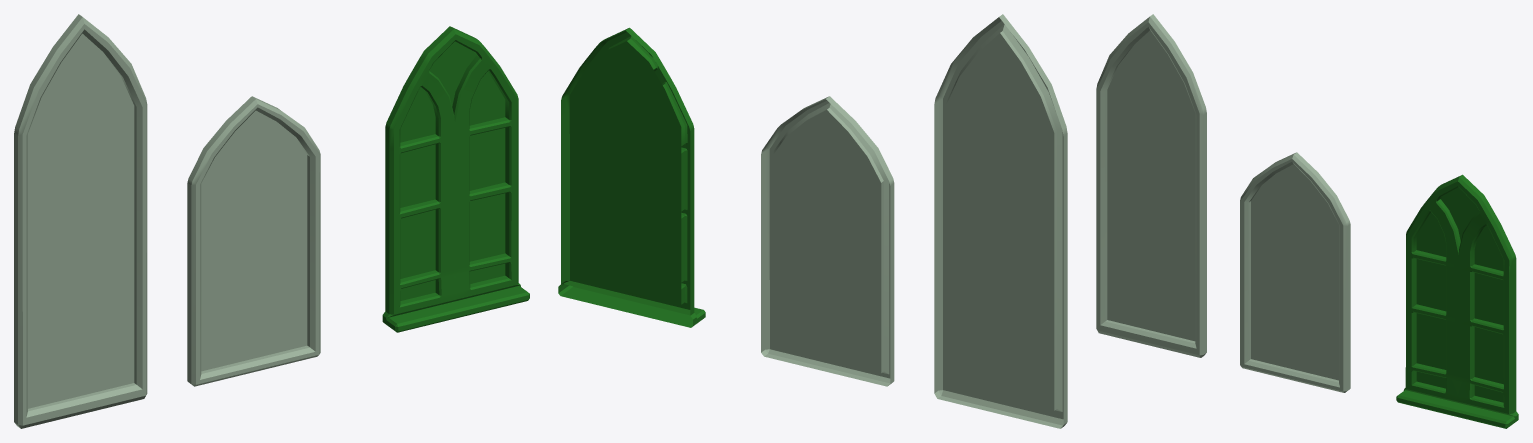
Rendered from WindowChurch.fbx.
The picture shows the model from 3 angles, left to right: view 1: azimuth 30°, elevation 25°; view 2: azimuth 150°, elevation 25°; view 3: azimuth 330°, elevation 25°; orthographic projection. The views are drawn at different scales.
Parts seen in each view (by area): view 1: Curch_window4, Curch_windowSmallStainedGlass, Curch_window1, pPlane1; view 2: Curch_window4, Curch_windowSmallStainedGlass, pPlane1, Curch_window1; view 3: Curch_window4, Curch_windowSmallStainedGlass, Curch_window1, pPlane1.
Boxes of the visible parts, box(x1,y1,x2,y2) form: Curch_window4: box(14, 14, 147, 428); Curch_windowSmallStainedGlass: box(187, 96, 320, 386); Curch_window1: box(382, 26, 529, 332); pPlane1: box(400, 41, 505, 300); Curch_window4: box(934, 14, 1067, 428); Curch_windowSmallStainedGlass: box(761, 96, 894, 386); pPlane1: box(572, 41, 681, 304); Curch_window1: box(558, 27, 705, 327); Curch_window4: box(1096, 14, 1206, 357); Curch_windowSmallStainedGlass: box(1240, 152, 1350, 392); Curch_window1: box(1396, 174, 1518, 428); pPlane1: box(1416, 187, 1503, 402).
Size of the model in its own units: 8.73 by 6.57 by 0.4148.
